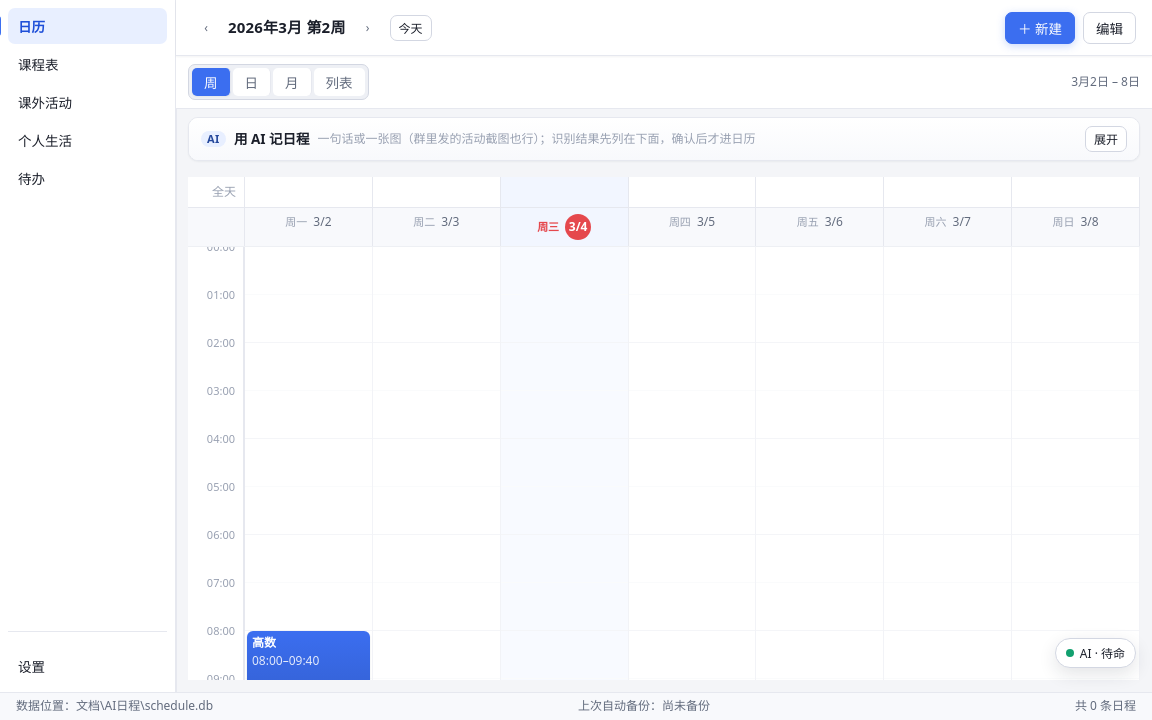
it: 日程右键菜单 › 点“查看详情”打开详情面板
This screenshot has width=1152, height=720.
Expected: the button with test id "block-e1" is shown, [247,631,370,680]
Right-click the button with test id "block-e1": x=308, y=671 [247,631,370,711]
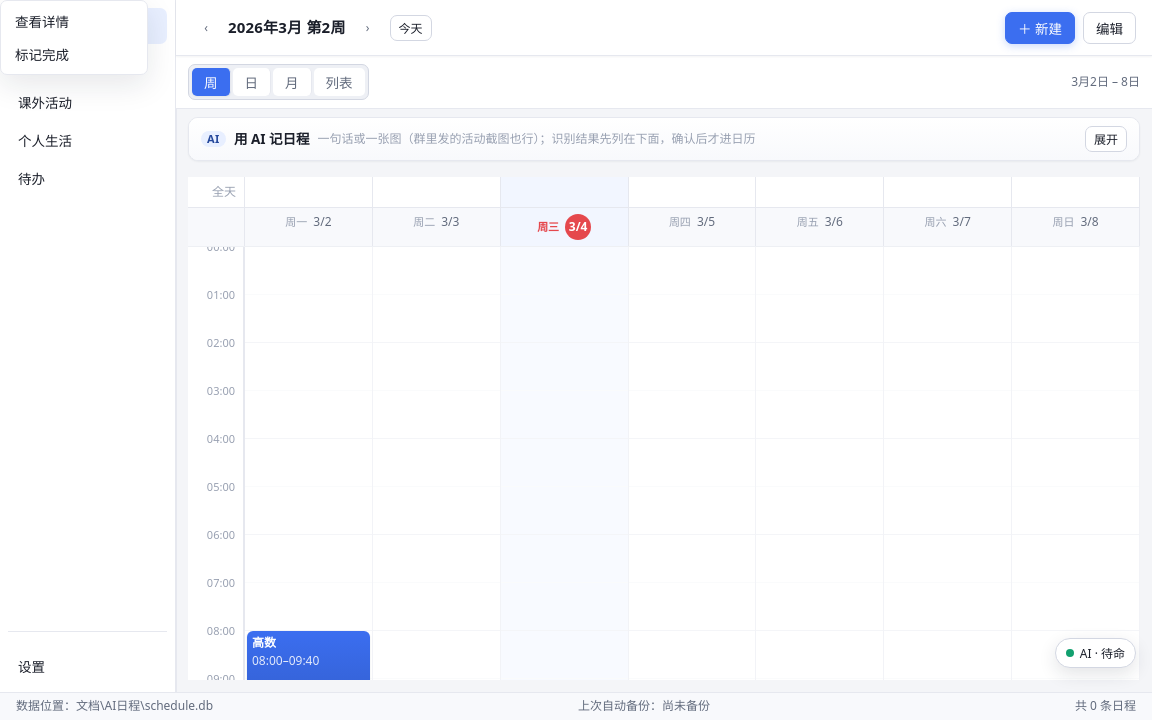
Click the menu item "查看详情": x=74, y=21 [5,5,143,37]
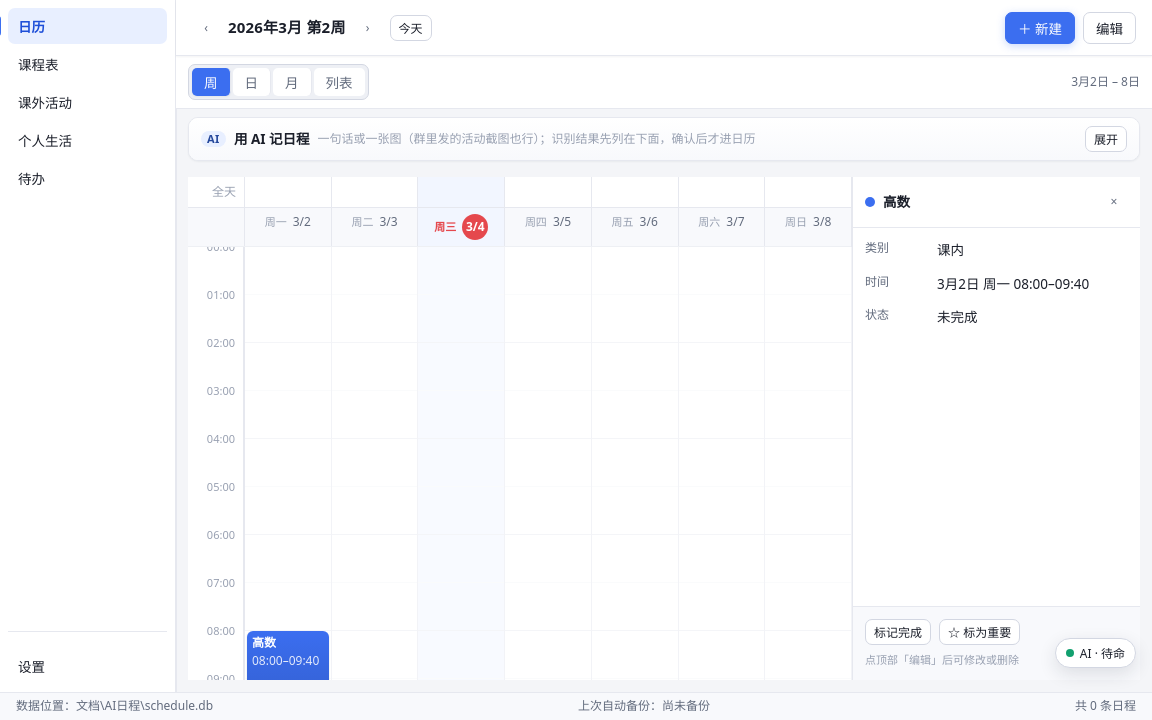
Expected: the element with test id "detail-panel" is shown, [852,177,1140,680]
